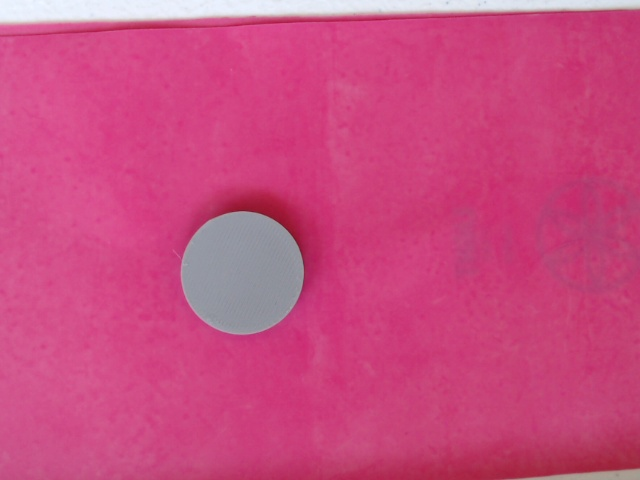NonDefective: (178, 208, 308, 340)
